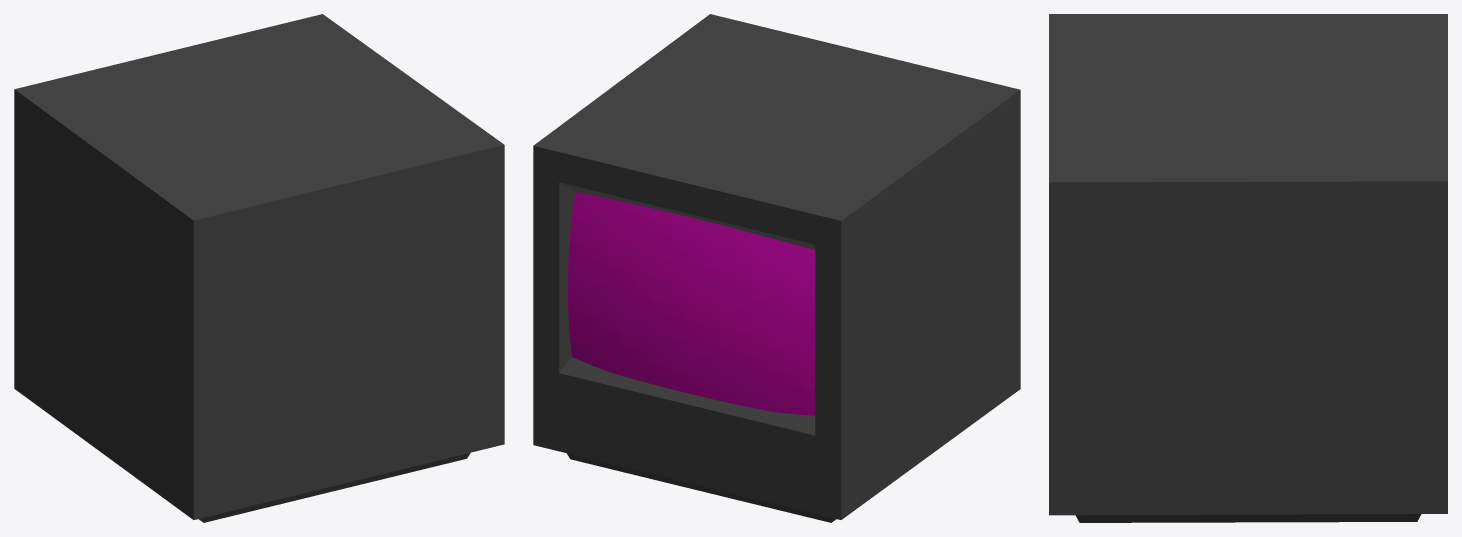
File: crt.glb
3 renders of one model, left to right at view 1: azimuth 30°, elevation 25°; view 2: azimuth 150°, elevation 25°; view 3: azimuth 270°, elevation 25°, orthographic. The views are drawn at different scales.
Parts seen in each view (by area): view 1: TvShell; view 2: TvShell, Screen; view 3: TvShell.
Boxes of the visible parts, x1,y1,x2,y2 form: TvShell: (14, 14, 504, 522); TvShell: (533, 14, 1020, 522); Screen: (568, 192, 815, 415); TvShell: (1049, 14, 1447, 522).
Size of the model in its own units: 4.81 by 4.7 by 4.81.
